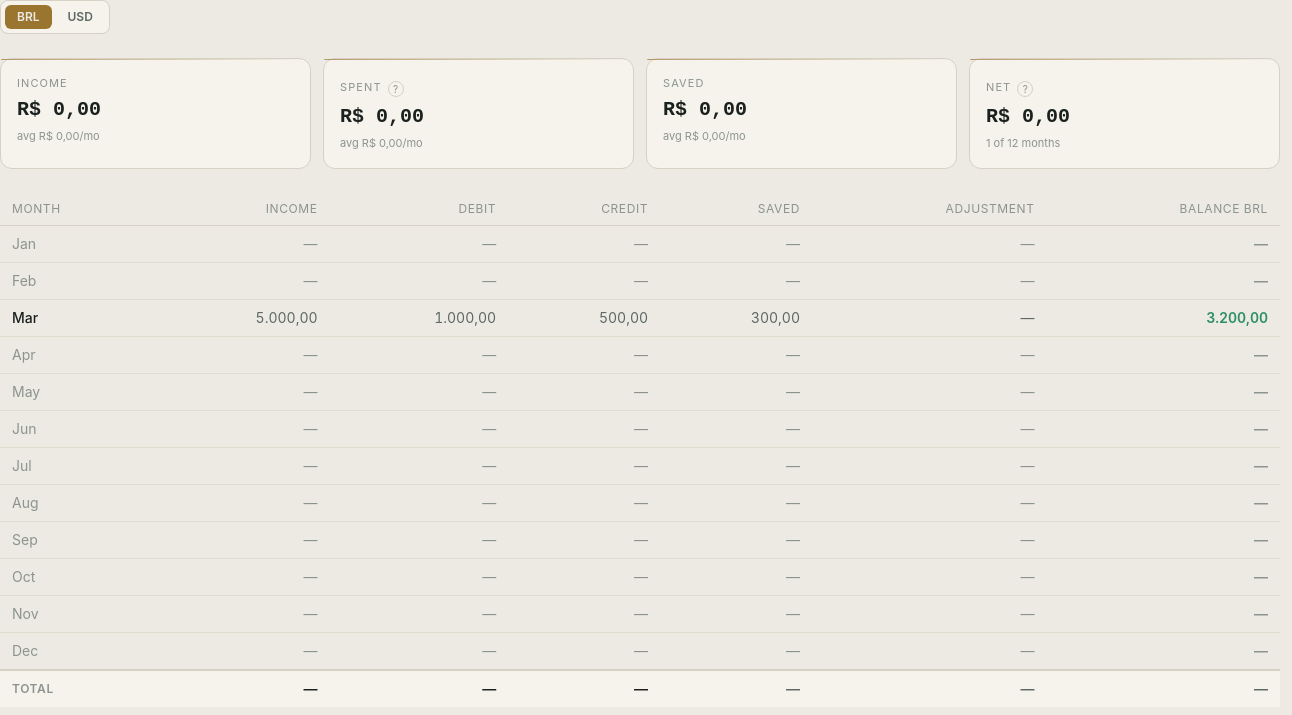
Test: AnnualView — currency › scopes the whole view to the chosen currency
Expected: the button with aria-label "Open March" is shown, 12,308 -> 38,328
Click the button "USD". click: (80, 17)
box: 56,5 -> 105,29
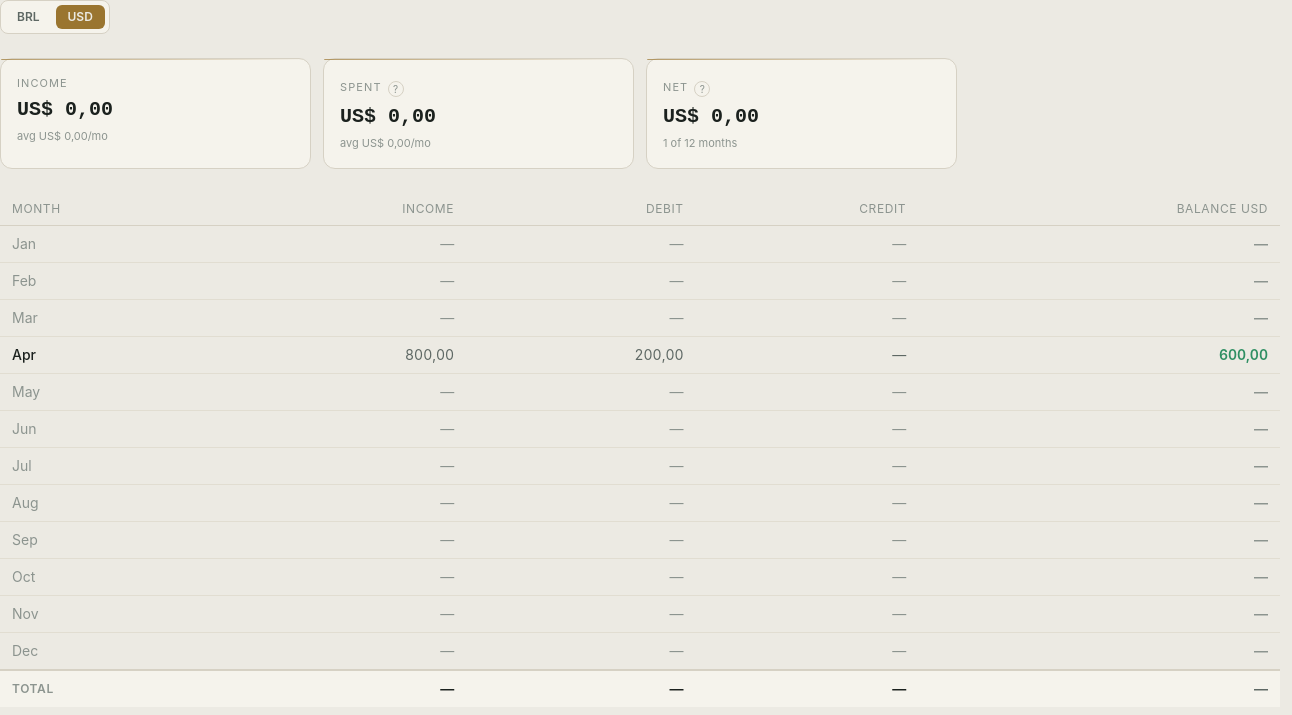
Expected: the button with aria-label "Open April" is shown, 12,344 -> 36,364
Expected: the column heading "Adjustment" is gone
